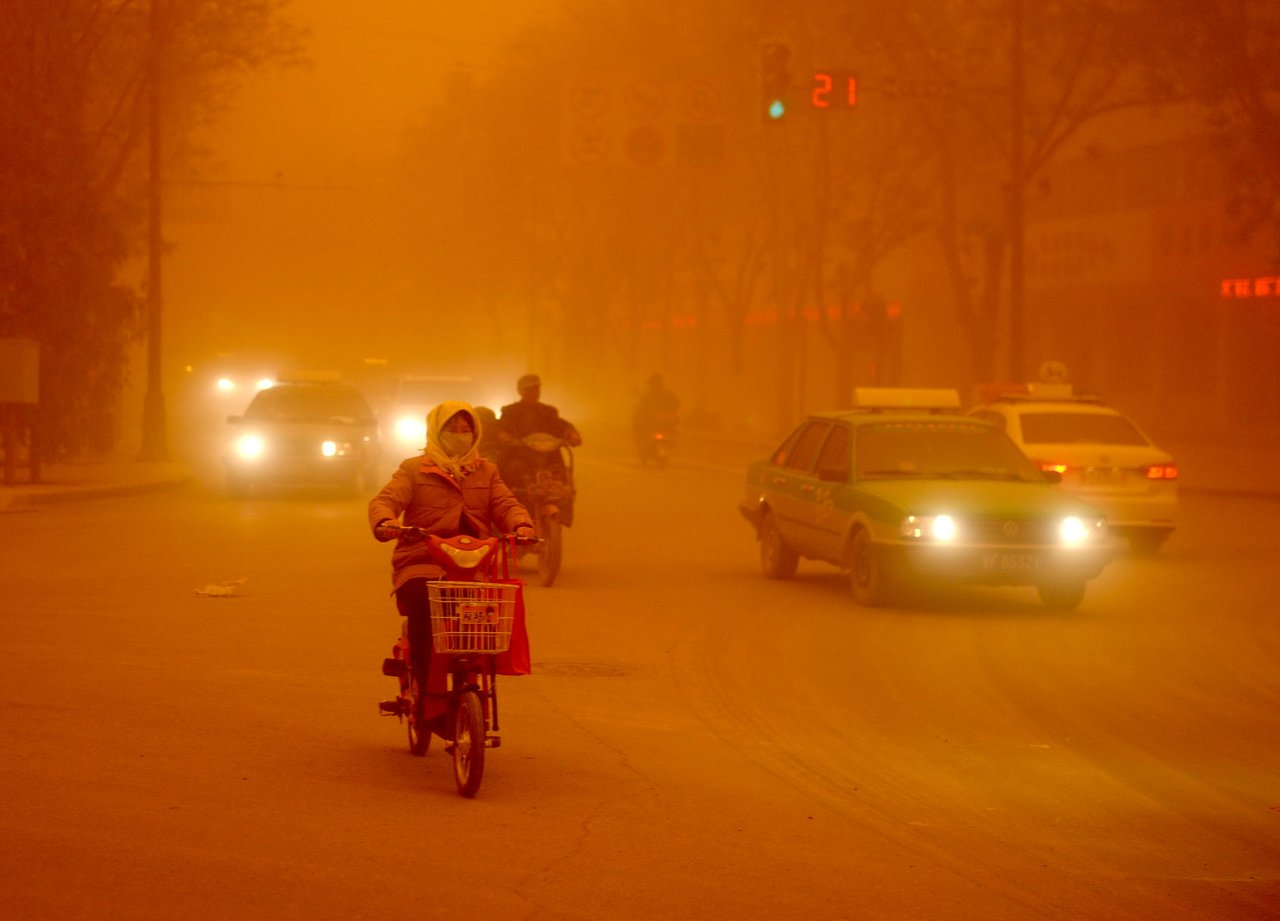bicycle: (386, 560, 525, 800)
car: (733, 403, 1122, 613), (960, 398, 1185, 555), (218, 376, 380, 499), (390, 369, 491, 474), (204, 344, 275, 409)
motorcycle: (493, 435, 576, 582), (637, 415, 677, 468)
person: (364, 405, 535, 704), (501, 360, 581, 525), (632, 372, 679, 467)
